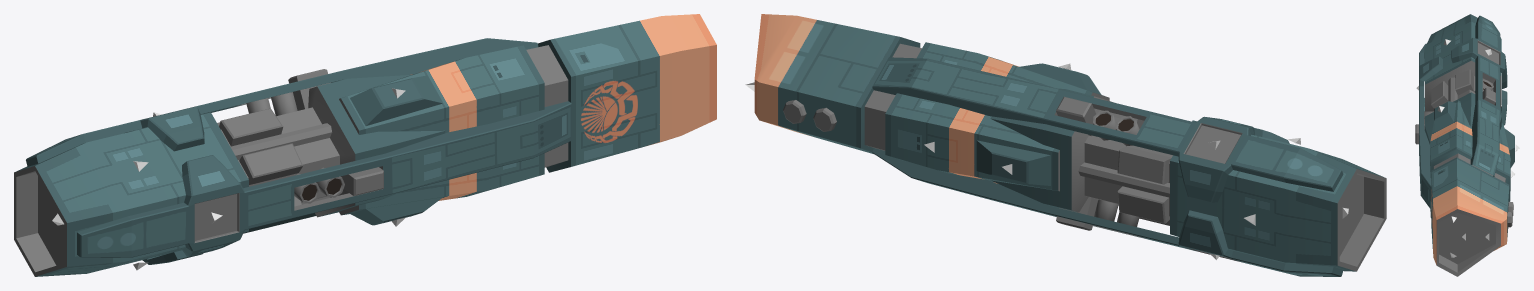
The picture shows the model from 3 angles, left to right: view 1: azimuth 30°, elevation 25°; view 2: azimuth 150°, elevation 25°; view 3: azimuth 270°, elevation 25°; orthographic projection. The views are drawn at different scales.
Visible parts, largest first — view 1: Front, Frame, Rear; view 2: Front, Frame, Rear; view 3: Front, Frame, Rear.
Part boxes in pixels (x1,y1,x2,y2): Front: (339, 14, 716, 225); Frame: (26, 38, 571, 264); Rear: (14, 74, 445, 276); Front: (754, 14, 1109, 191); Frame: (872, 57, 1343, 276); Rear: (990, 88, 1386, 271); Front: (1430, 100, 1514, 276); Frame: (1415, 15, 1507, 209); Rear: (1424, 14, 1501, 144).
Size of the model in its own units: 56.02 by 12.04 by 12.69.
Materials: 2 (1 with a texture image).
